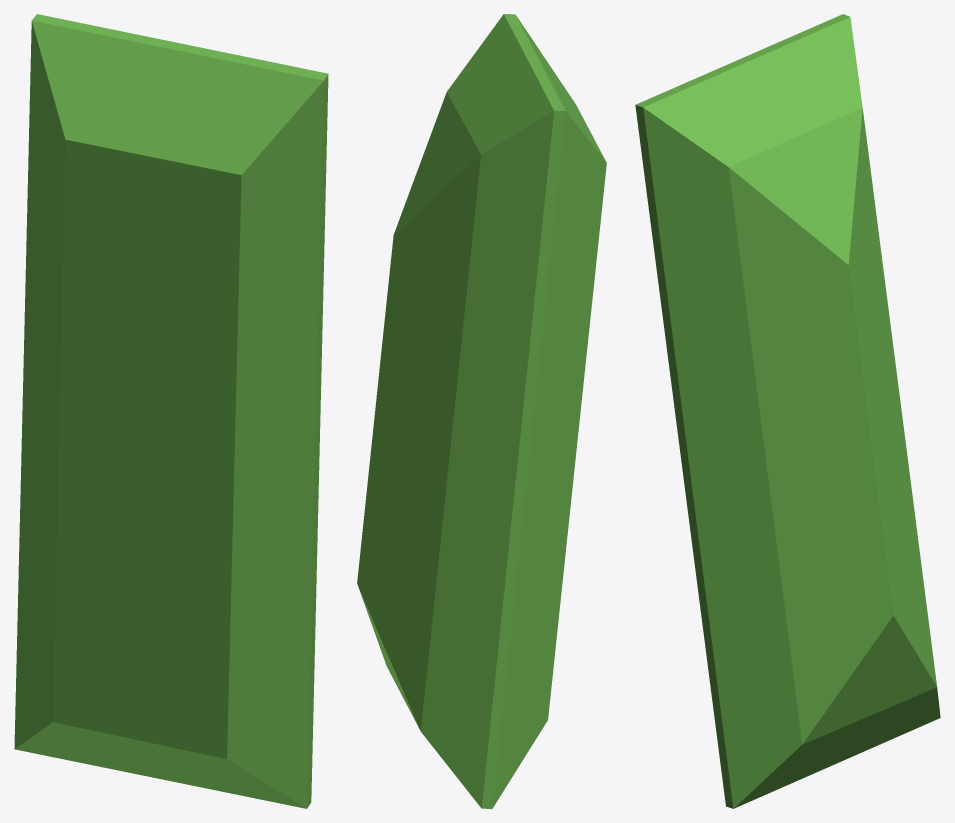
The model's file is BL3_Spacers_BaguetteStone.001 3.glb.
3 views of the same model, side by side, from view 1: azimuth 30°, elevation 25°; view 2: azimuth 150°, elevation 25°; view 3: azimuth 270°, elevation 25° (orthographic). The views are drawn at different scales.
Visible parts, largest first — view 1: BL3_Spacers_BaguetteStone.001; view 2: BL3_Spacers_BaguetteStone.001; view 3: BL3_Spacers_BaguetteStone.001.
Part boxes in pixels (box(x1,y1,x2,y2)): BL3_Spacers_BaguetteStone.001: box(14, 14, 328, 808); BL3_Spacers_BaguetteStone.001: box(357, 14, 606, 808); BL3_Spacers_BaguetteStone.001: box(635, 14, 940, 808).
Bounding box in the file's own units: 0.182 × 0.5839 × 0.2298.
